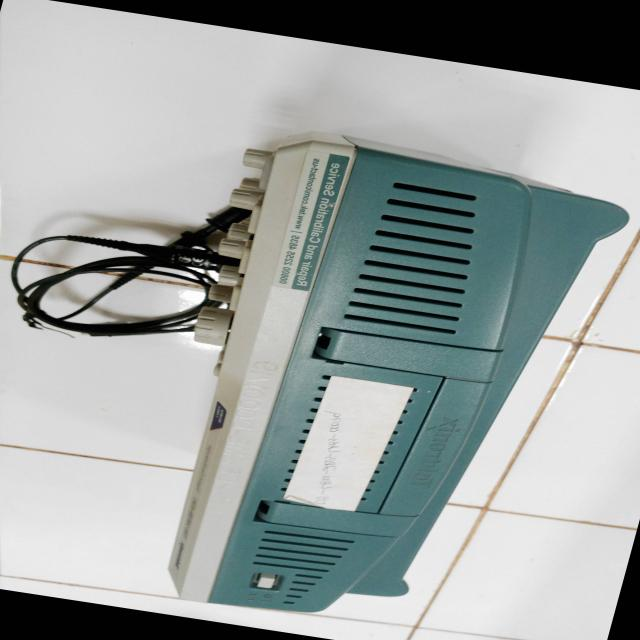Digital Oscilloscope: (75, 113, 640, 640)
